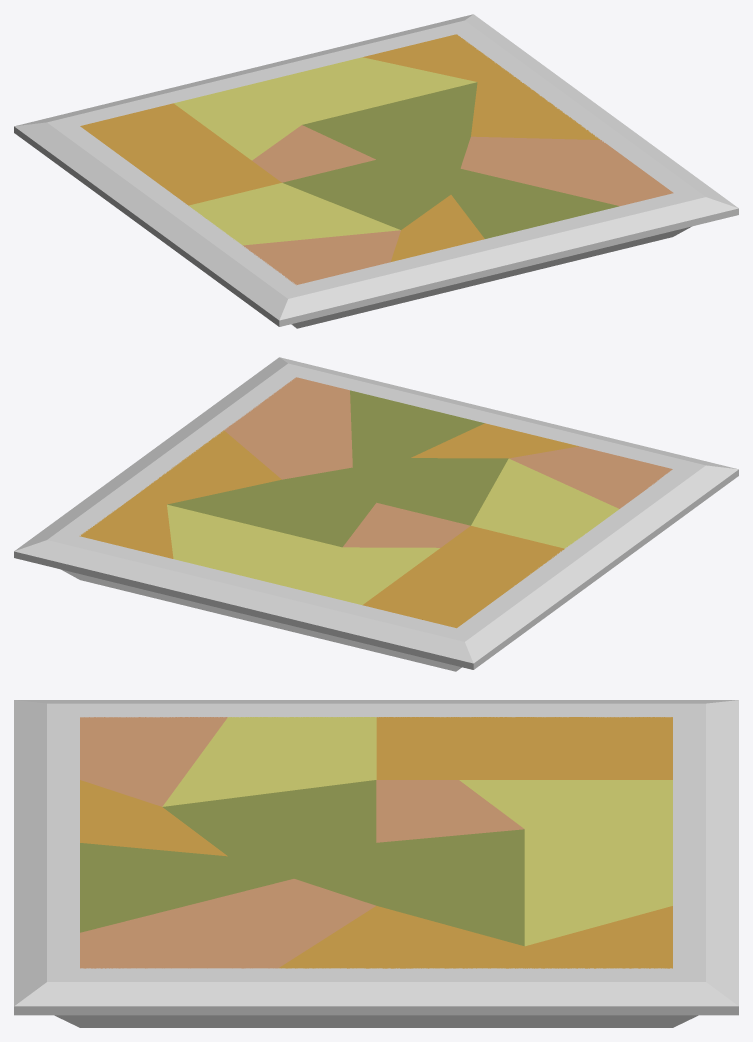
File: Playground Lot.fbx
3 views of the same model, one above another, from view 1: azimuth 30°, elevation 25°; view 2: azimuth 150°, elevation 25°; view 3: azimuth 270°, elevation 25° (orthographic). The views are drawn at different scales.
Visible parts, largest first — view 1: Cube.004, Cube; view 2: Cube.004, Cube; view 3: Cube.004, Cube.
Boxes of the visible parts, bbox=[...] form: Cube.004: bbox=[80, 34, 673, 285]; Cube: bbox=[14, 14, 738, 328]; Cube.004: bbox=[79, 377, 672, 628]; Cube: bbox=[14, 357, 738, 671]; Cube.004: bbox=[80, 717, 672, 968]; Cube: bbox=[14, 700, 738, 1027].
Size of the model in its own units: 2200 by 200 by 2200.
